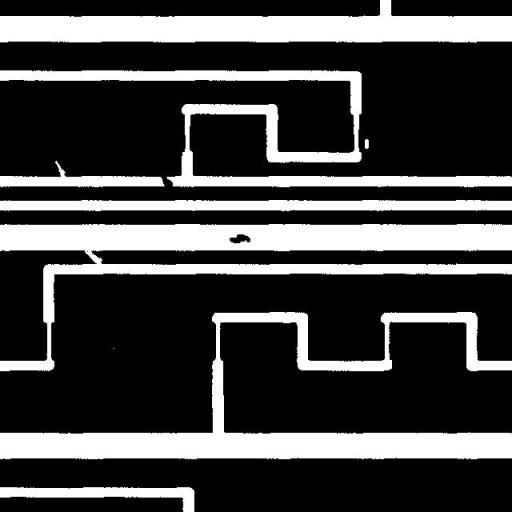copper: (222, 226, 258, 250)
mousebite: (47, 153, 73, 186)
open: (76, 239, 110, 272)
pin-hole: (357, 131, 376, 156)
short: (151, 162, 180, 194)
